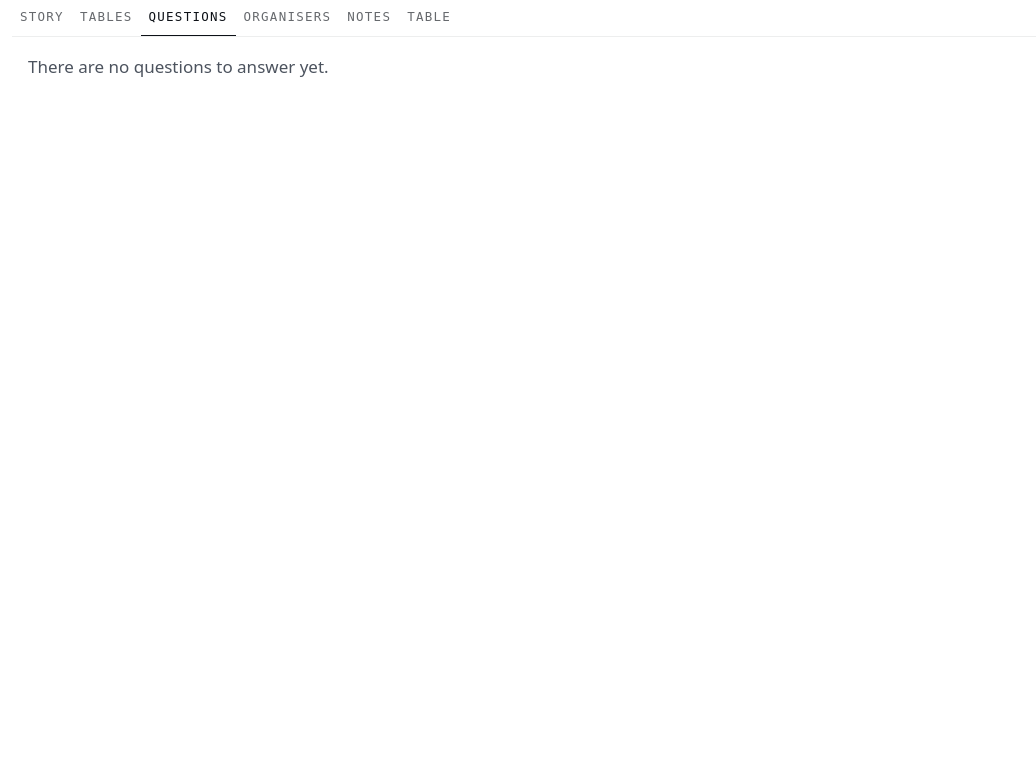
Test case: the side panel's Tables tab › scrolls a long document inside its own panel and loses none of it
This screenshot has width=1036, height=768.
Click the tab "Tables": [106, 18] box [72,0,141,37]
(page scrolled)
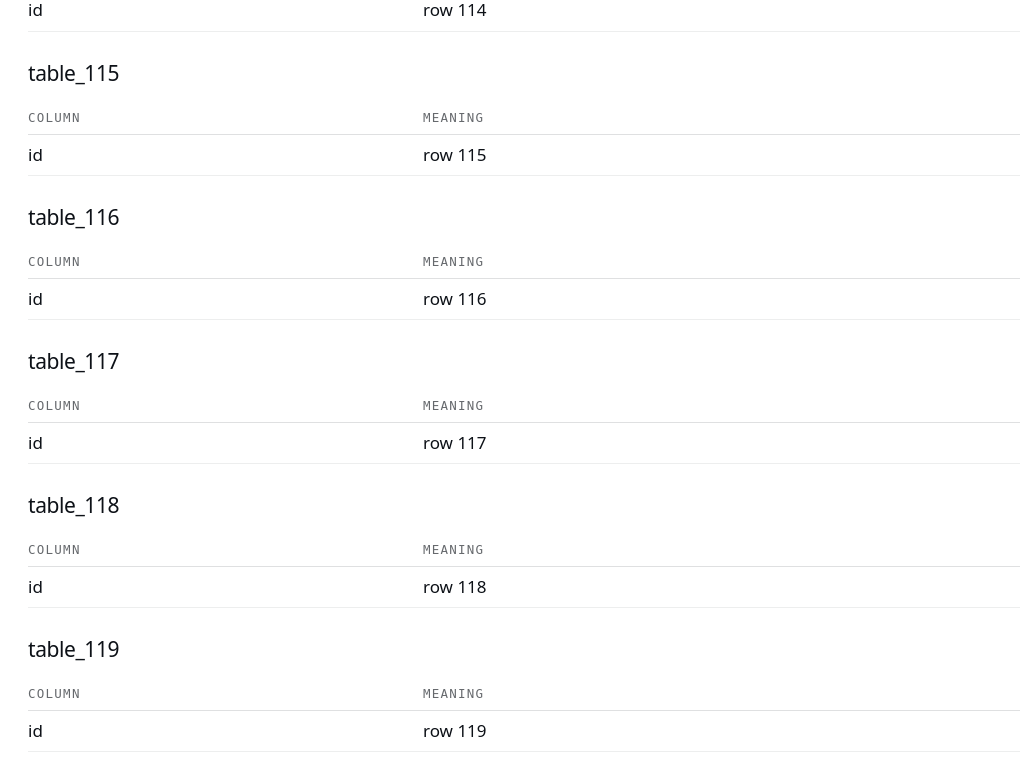
Expected: the heading "table_119" is shown, [28,635,119,663]
